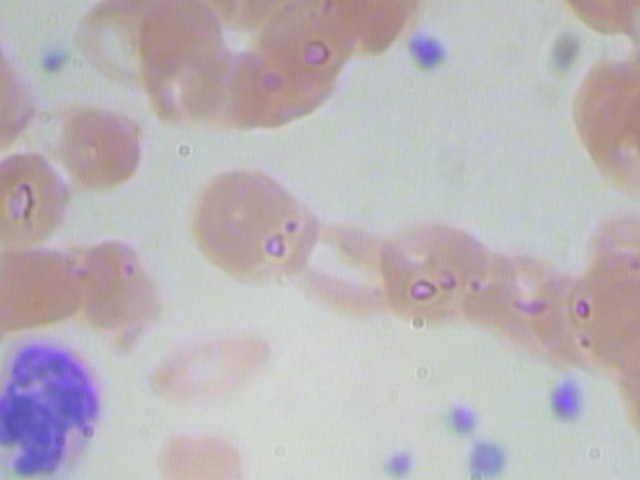Platelets: (533, 369, 591, 432), (457, 432, 515, 480), (399, 28, 455, 71), (369, 446, 425, 480), (444, 402, 483, 441), (35, 47, 70, 79)
RBC: (191, 168, 327, 290), (361, 214, 496, 325), (280, 210, 406, 312), (72, 232, 170, 362), (140, 321, 279, 409), (0, 240, 88, 341), (59, 104, 153, 193), (0, 141, 77, 249), (131, 418, 262, 480)
WBC: (0, 326, 108, 480)
